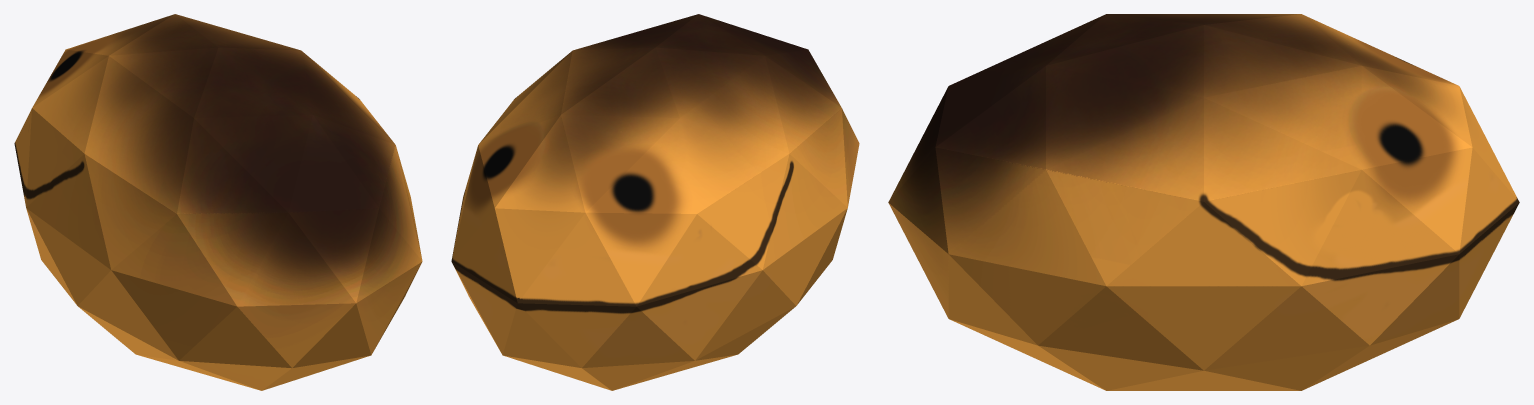
Rendered from snake_head.dae.
3 renders of one model, left to right at view 1: azimuth 30°, elevation 25°; view 2: azimuth 150°, elevation 25°; view 3: azimuth 270°, elevation 25°, orthographic. The views are drawn at different scales.
Parts seen in each view (by area): view 1: Icosphere; view 2: Icosphere; view 3: Icosphere.
Part boxes in pixels (left/top/right/bottom): Icosphere: left=14, top=14, right=422, bottom=390; Icosphere: left=451, top=14, right=859, bottom=390; Icosphere: left=888, top=14, right=1519, bottom=390.
Bounding box in the file's own units: 1.88 × 3 × 1.86.
1 material, 1 textured.
